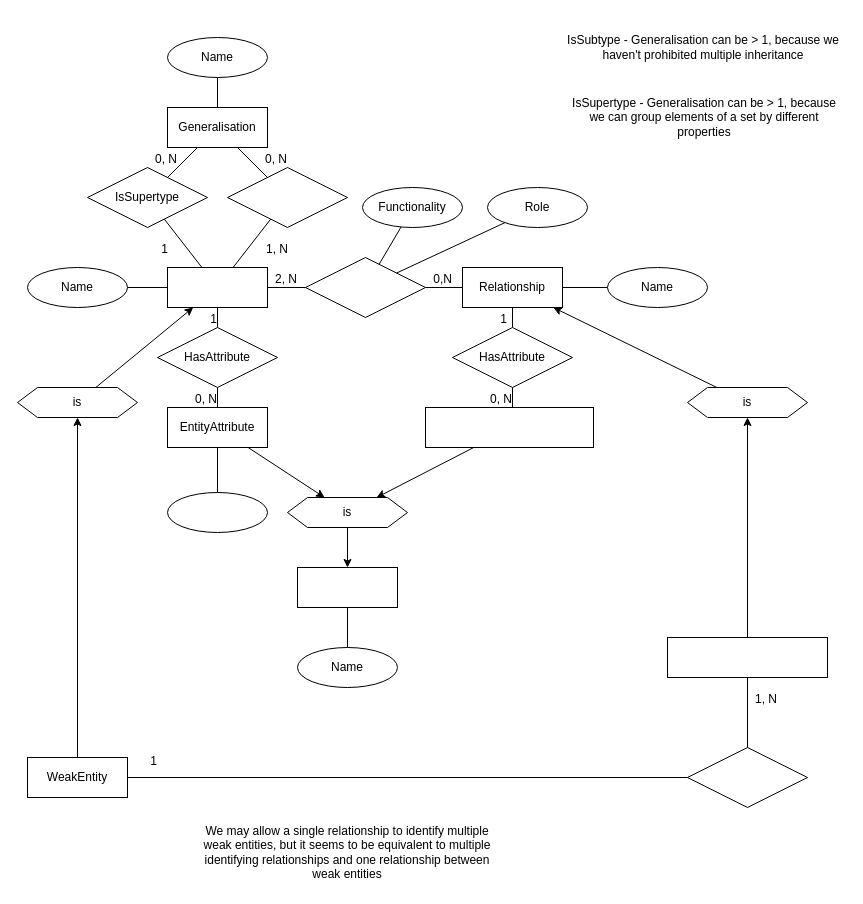
This 863x904 diagram has some shape labels left out. Each missing label, with the box of its shape:
Attribute: (296, 566, 398, 608)
Entity: (166, 266, 268, 308)
Identifies: (686, 746, 808, 808)
IdentifyingRelationship: (666, 636, 828, 678)
IsSubtype: (226, 166, 348, 228)
Paricipates: (304, 256, 426, 318)
PartOfPK: (166, 492, 268, 532)
RelationshipAttribute: (424, 406, 594, 448)
